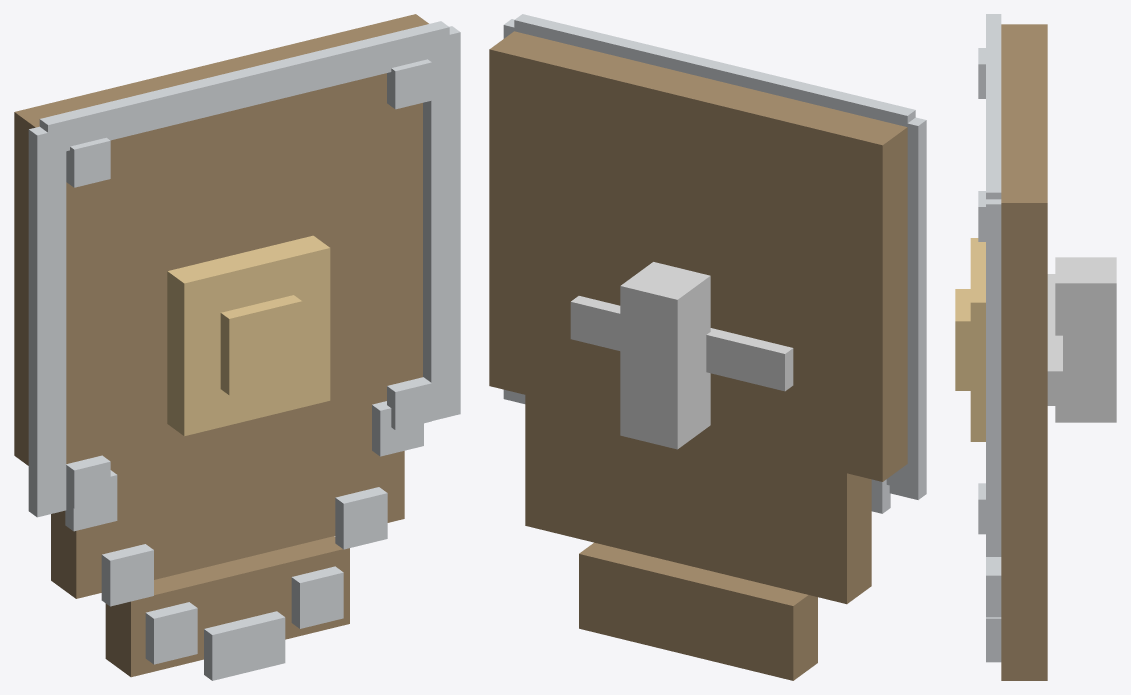
File: weapon_shield.glb
3 renders of one model, left to right at view 1: azimuth 30°, elevation 25°; view 2: azimuth 150°, elevation 25°; view 3: azimuth 270°, elevation 25°, orthographic. The views are drawn at different scales.
Parts seen in each view (by area): view 1: Weapon_Shield; view 2: Weapon_Shield; view 3: Weapon_Shield.
Boxes of the visible parts, x1=… form: Weapon_Shield: x1=14, y1=14, x2=460, y2=680; Weapon_Shield: x1=489, y1=14, x2=926, y2=680; Weapon_Shield: x1=955, y1=14, x2=1116, y2=680.
Size of the model in its own units: 0.58 by 0.78 by 0.21.
